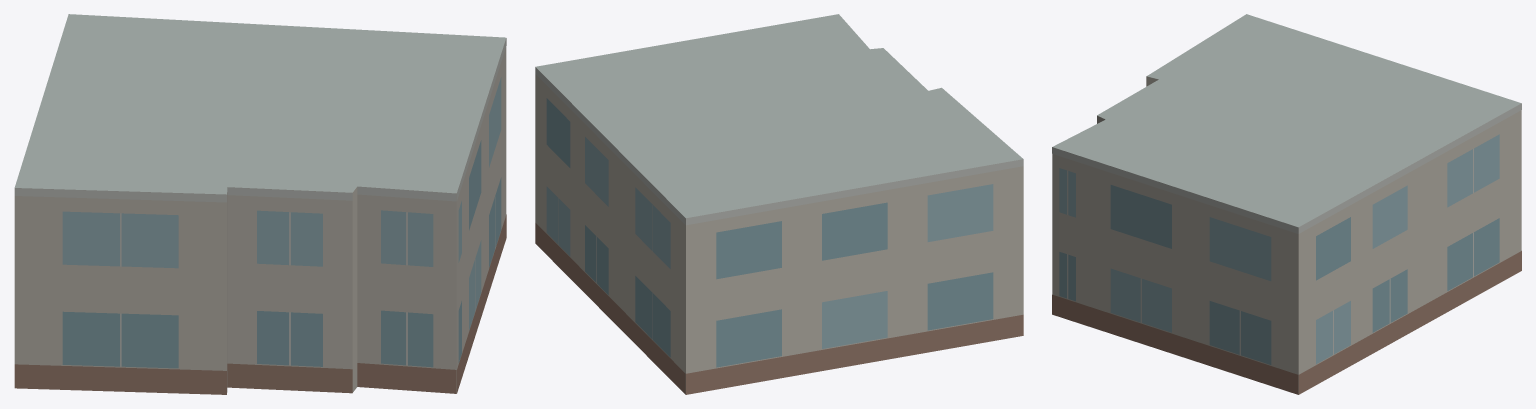
File: survey-upis-32862914.glb
3 views of the same model, side by side, from view 1: azimuth 30°, elevation 25°; view 2: azimuth 150°, elevation 25°; view 3: azimuth 270°, elevation 25° (orthographic). The views are drawn at different scales.
Parts seen in each view (by area): view 1: survey-upis-32862914.tmp; view 2: survey-upis-32862914.tmp; view 3: survey-upis-32862914.tmp.
Boxes of the visible parts, bbox=[...] form: survey-upis-32862914.tmp: bbox=[14, 14, 506, 394]; survey-upis-32862914.tmp: bbox=[535, 14, 1023, 394]; survey-upis-32862914.tmp: bbox=[1052, 14, 1521, 394].
Bounding box in the file's own units: 16.67 × 6.1 × 15.51.
